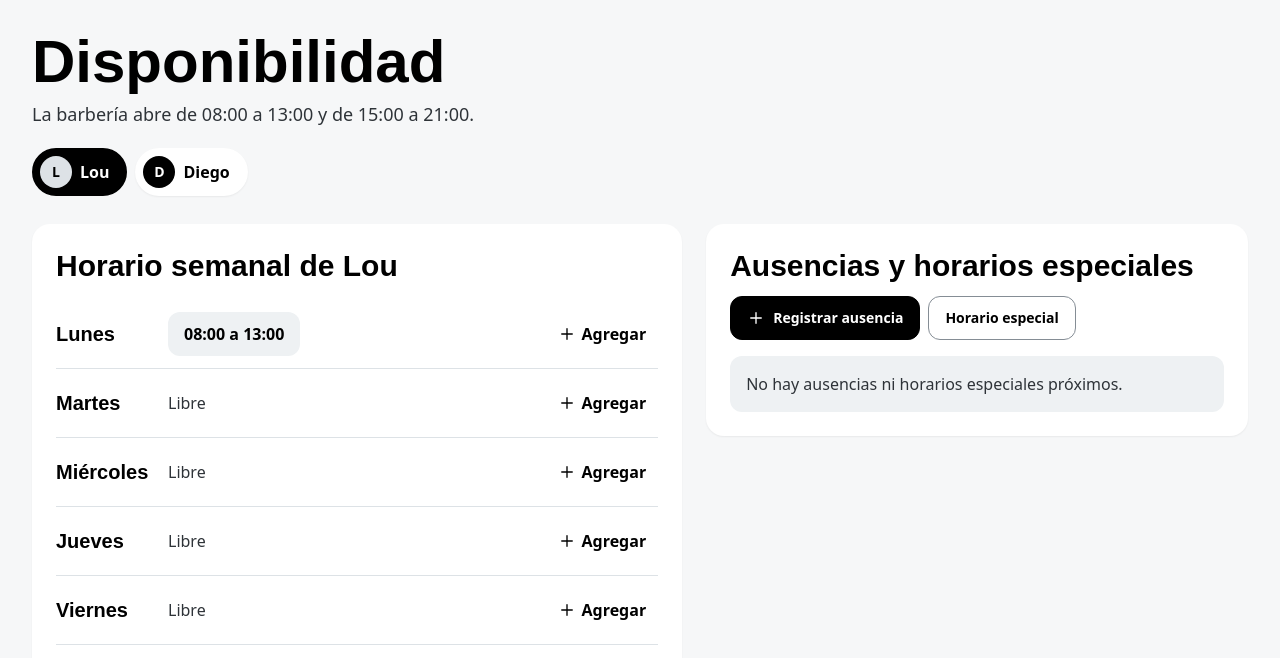
Test: SchedulingPage › points to the agenda when a change leaves appointments outside the hours
This screenshot has width=1280, height=658.
What coordinates should you click on to do the following:
click the button named "Editar turno 08:00 a 13:00"
I would click on:
 (234, 334)
Its box is 168,312 -> 300,356.
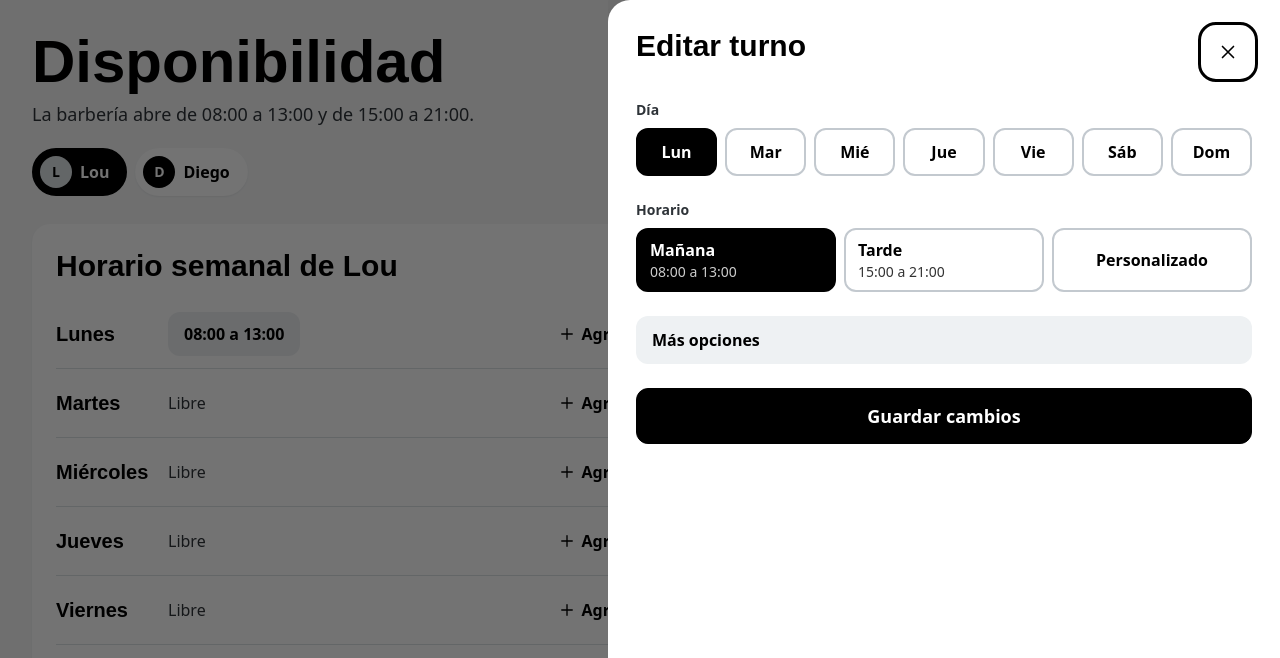
What coordinates should you click on to do the following:
click the button "Guardar cambios"
I would click on:
 (944, 416)
Its box is 636,388 -> 1252,444.
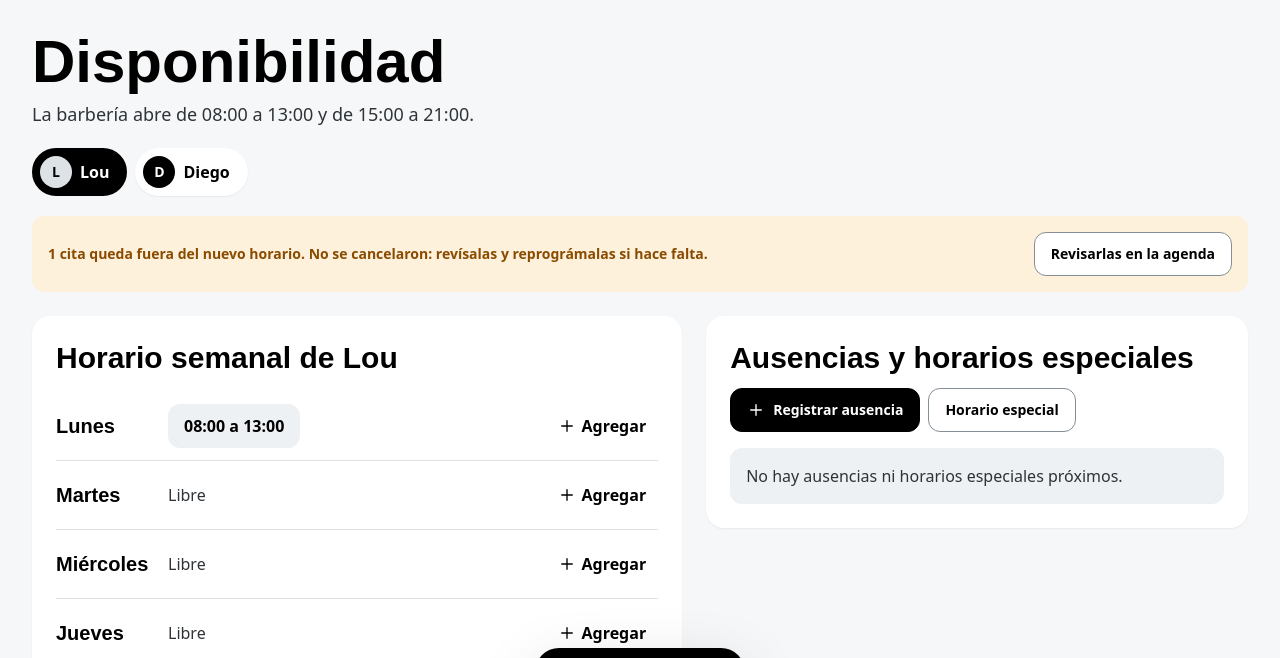
Expected: the text "1 cita queda fuera del nuevo horario" is shown, 48,244 -> 305,263
